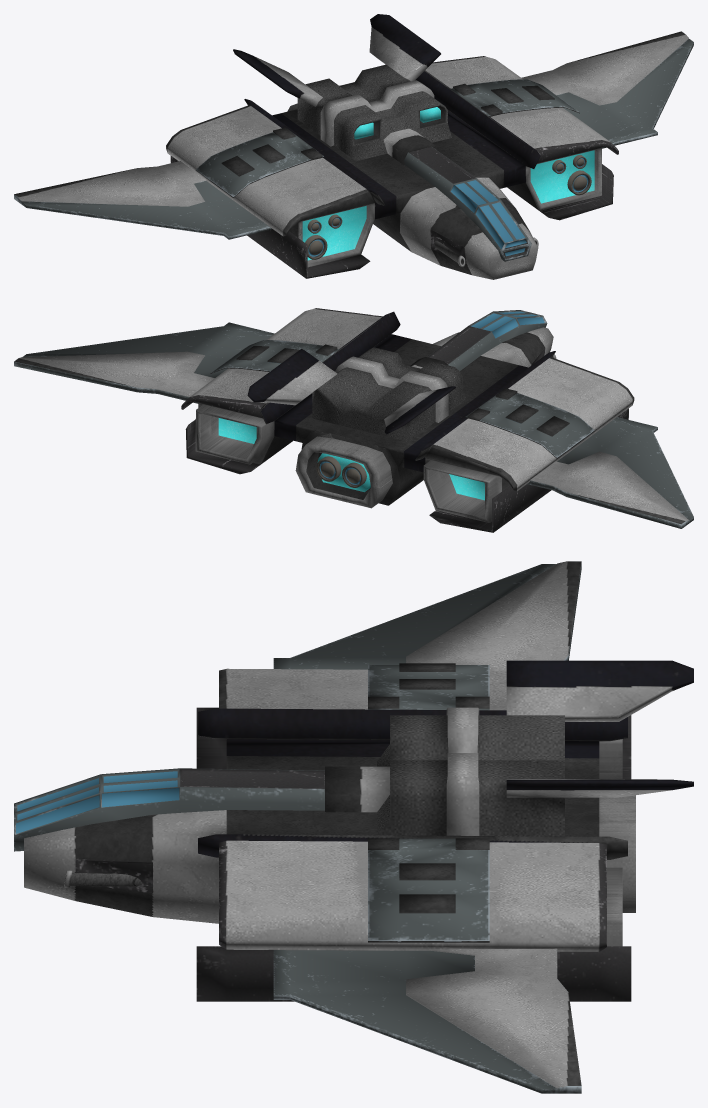
File: Nave 2 Junta pero lista.fbx
3 renders of one model, top to bottom at view 1: azimuth 30°, elevation 25°; view 2: azimuth 150°, elevation 25°; view 3: azimuth 270°, elevation 25°, orthographic. The views are drawn at different scales.
Visible parts, largest first — view 1: Nave base; view 2: Nave base; view 3: Nave base.
Part boxes in pixels (x1=…): Nave base: x1=14, y1=14, x2=693, y2=279; Nave base: x1=14, y1=308, x2=693, y2=532; Nave base: x1=14, y1=561, x2=693, y2=1093.
Bounding box in the file's own units: 529 × 81.55 × 289.
Materials: 1 (1 with a texture image).
